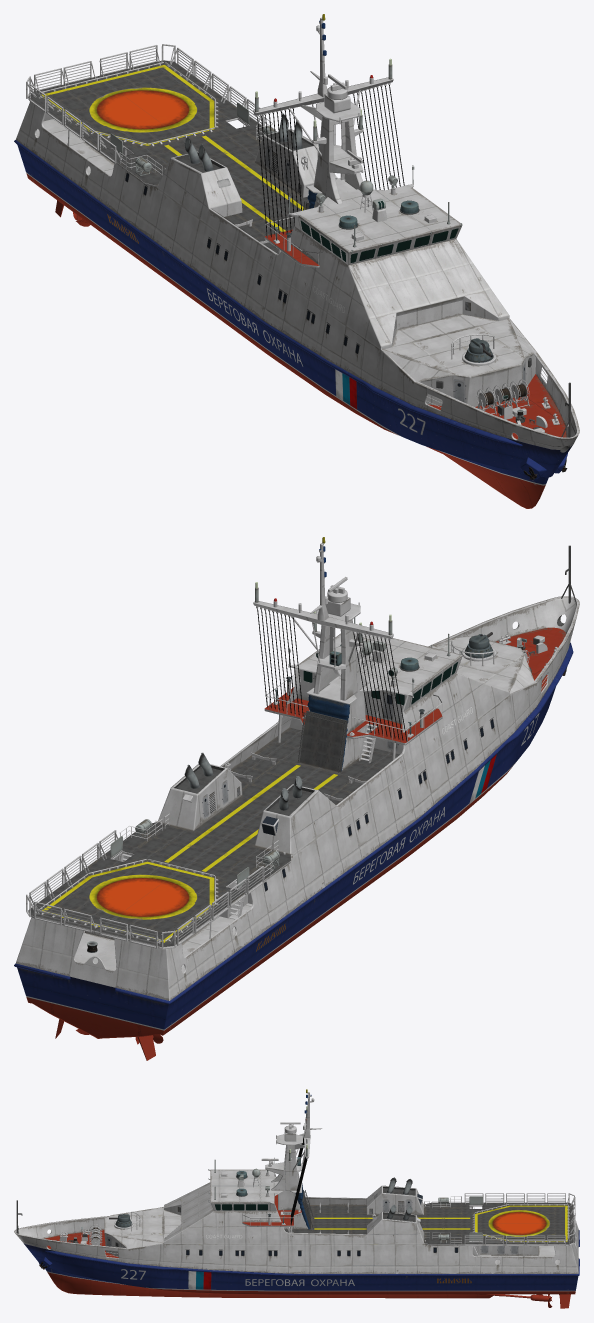
The model's file is coast_ship_guard.glb.
3 renders of one model, top to bottom at view 1: azimuth 30°, elevation 25°; view 2: azimuth 150°, elevation 25°; view 3: azimuth 270°, elevation 25°, orthographic. The views are drawn at different scales.
Visible parts, largest first — view 1: Ship_PSKR_01_LOD0_0, Ship_PSKR_01_LOD0_2, Ship_PSKR_01_LOD0_3, Ship_PSKR_01_LOD0_4, Ship_PSKR_01_LOD0_1, Ship_PSKR_01_LOD0_5; view 2: Ship_PSKR_01_LOD0_0, Ship_PSKR_01_LOD0_2, Ship_PSKR_01_LOD0_3, Ship_PSKR_01_LOD0_4, Ship_PSKR_01_LOD0_1, Ship_PSKR_01_LOD0_5; view 3: Ship_PSKR_01_LOD0_0, Ship_PSKR_01_LOD0_2, Ship_PSKR_01_LOD0_3, Ship_PSKR_01_LOD0_4, Ship_PSKR_01_LOD0_1, Ship_PSKR_01_LOD0_5.
Boxes of the visible parts, x1=… form: Ship_PSKR_01_LOD0_0: x1=15, y1=17, x2=579, y2=452; Ship_PSKR_01_LOD0_2: x1=14, y1=140, x2=572, y2=508; Ship_PSKR_01_LOD0_3: x1=16, y1=66, x2=579, y2=484; Ship_PSKR_01_LOD0_4: x1=40, y1=65, x2=425, y2=434; Ship_PSKR_01_LOD0_1: x1=110, y1=14, x2=567, y2=479; Ship_PSKR_01_LOD0_5: x1=300, y1=220, x2=458, y2=262; Ship_PSKR_01_LOD0_0: x1=16, y1=543, x2=579, y2=1000; Ship_PSKR_01_LOD0_2: x1=14, y1=627, x2=573, y2=1060; Ship_PSKR_01_LOD0_3: x1=16, y1=596, x2=579, y2=1029; Ship_PSKR_01_LOD0_4: x1=42, y1=707, x2=539, y2=951; Ship_PSKR_01_LOD0_1: x1=87, y1=537, x2=566, y2=952; Ship_PSKR_01_LOD0_5: x1=303, y1=662, x2=457, y2=705; Ship_PSKR_01_LOD0_0: x1=14, y1=1092, x2=578, y2=1273; Ship_PSKR_01_LOD0_2: x1=23, y1=1194, x2=579, y2=1308; Ship_PSKR_01_LOD0_3: x1=14, y1=1134, x2=578, y2=1293; Ship_PSKR_01_LOD0_4: x1=121, y1=1205, x2=567, y2=1289; Ship_PSKR_01_LOD0_1: x1=39, y1=1089, x2=482, y2=1269; Ship_PSKR_01_LOD0_5: x1=215, y1=1204, x2=267, y2=1210.
Bounding box in the file's own units: 0.3005 × 0.6494 × 1.6.
4 materials, 4 textured.
